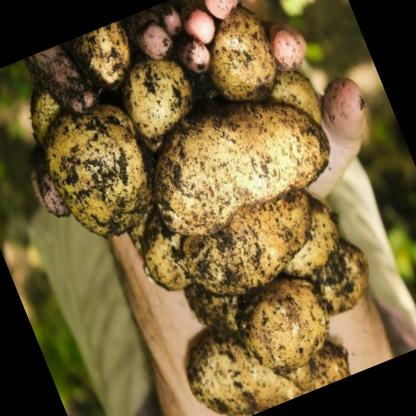potato: (129, 68, 346, 250), (26, 82, 172, 254), (166, 168, 334, 312), (171, 284, 354, 416), (226, 264, 346, 386), (185, 0, 292, 118), (109, 42, 212, 159), (64, 19, 144, 99)
